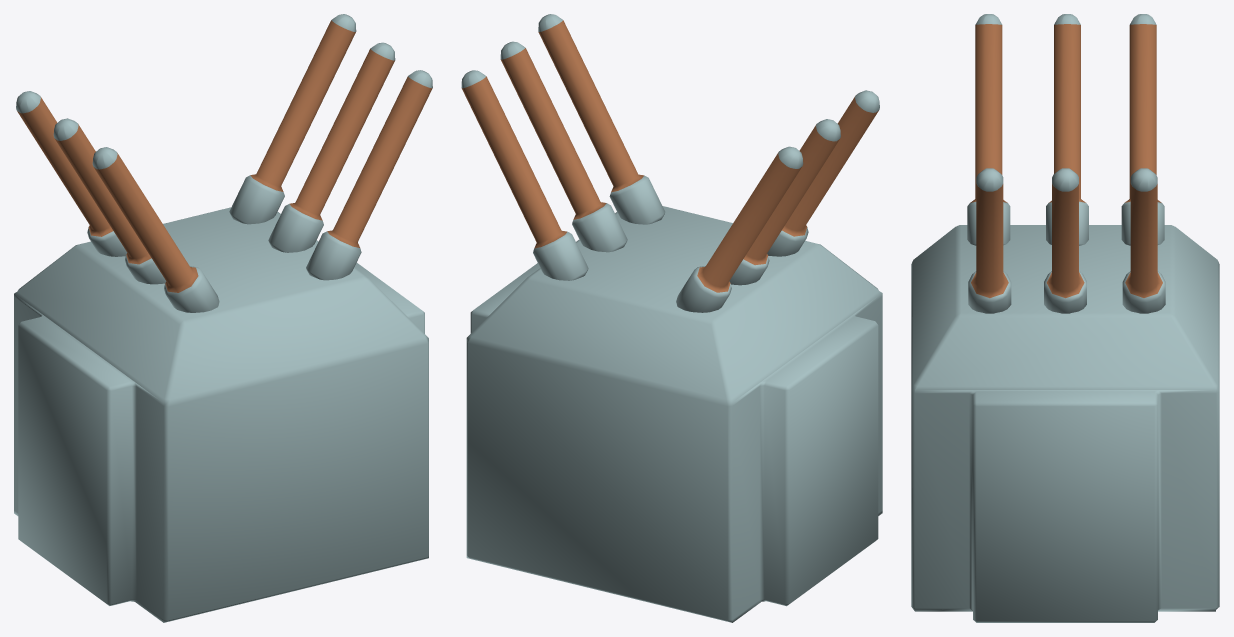
The model's file is generator.fbx.
The picture shows the model from 3 angles, left to right: view 1: azimuth 30°, elevation 25°; view 2: azimuth 150°, elevation 25°; view 3: azimuth 270°, elevation 25°; orthographic projection.
Visible parts, largest first — view 1: ElectricalThing.002; view 2: ElectricalThing.002; view 3: ElectricalThing.002.
Boxes of the visible parts, x1,y1,x2,y2 form: ElectricalThing.002: (14, 14, 432, 622); ElectricalThing.002: (461, 14, 882, 622); ElectricalThing.002: (911, 14, 1219, 622).
Bounding box in the file's own units: 253 × 326 × 200.
